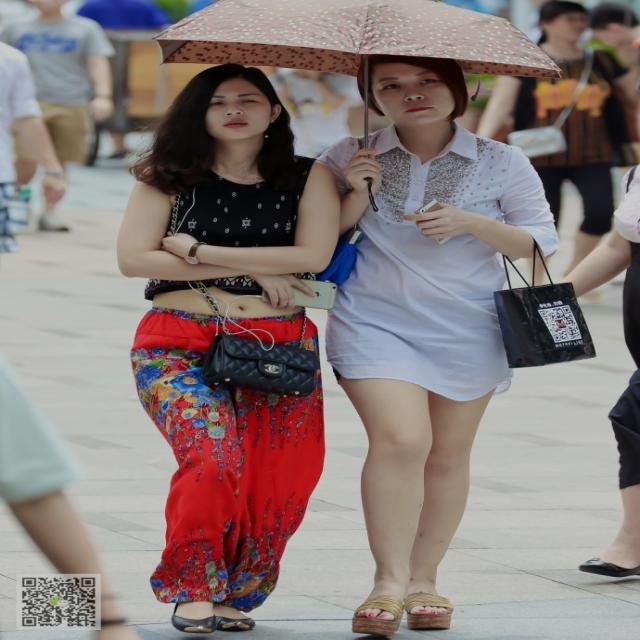fight: (112, 46, 573, 639)
non-fight: (0, 0, 78, 247)
